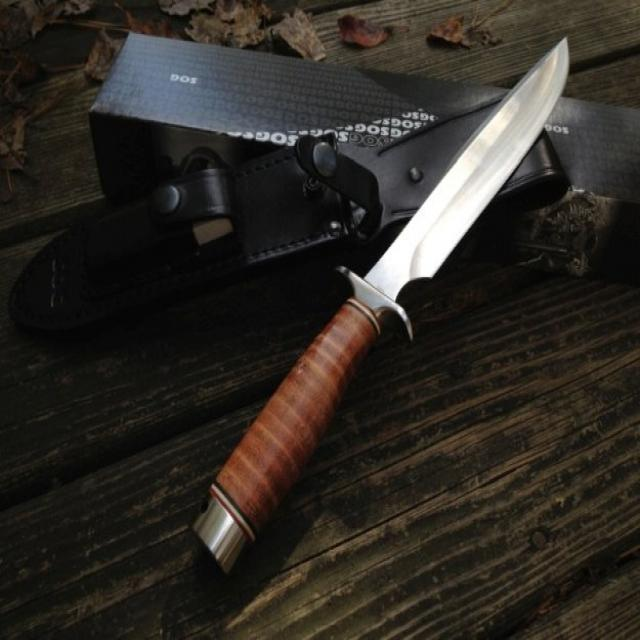-: (368, 20, 582, 299)
